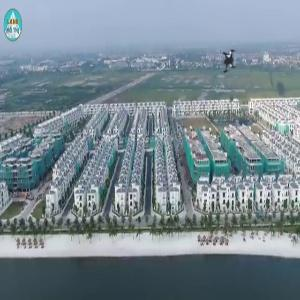drone: (205, 37, 255, 87)
